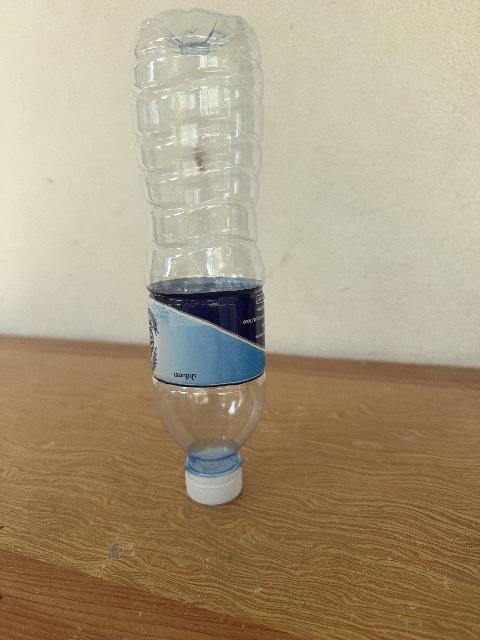bottle: (131, 10, 265, 504)
